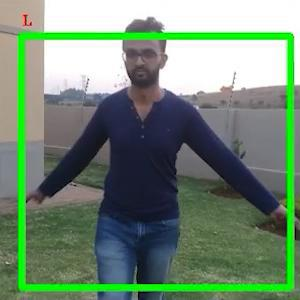land: (16, 31, 292, 299)
